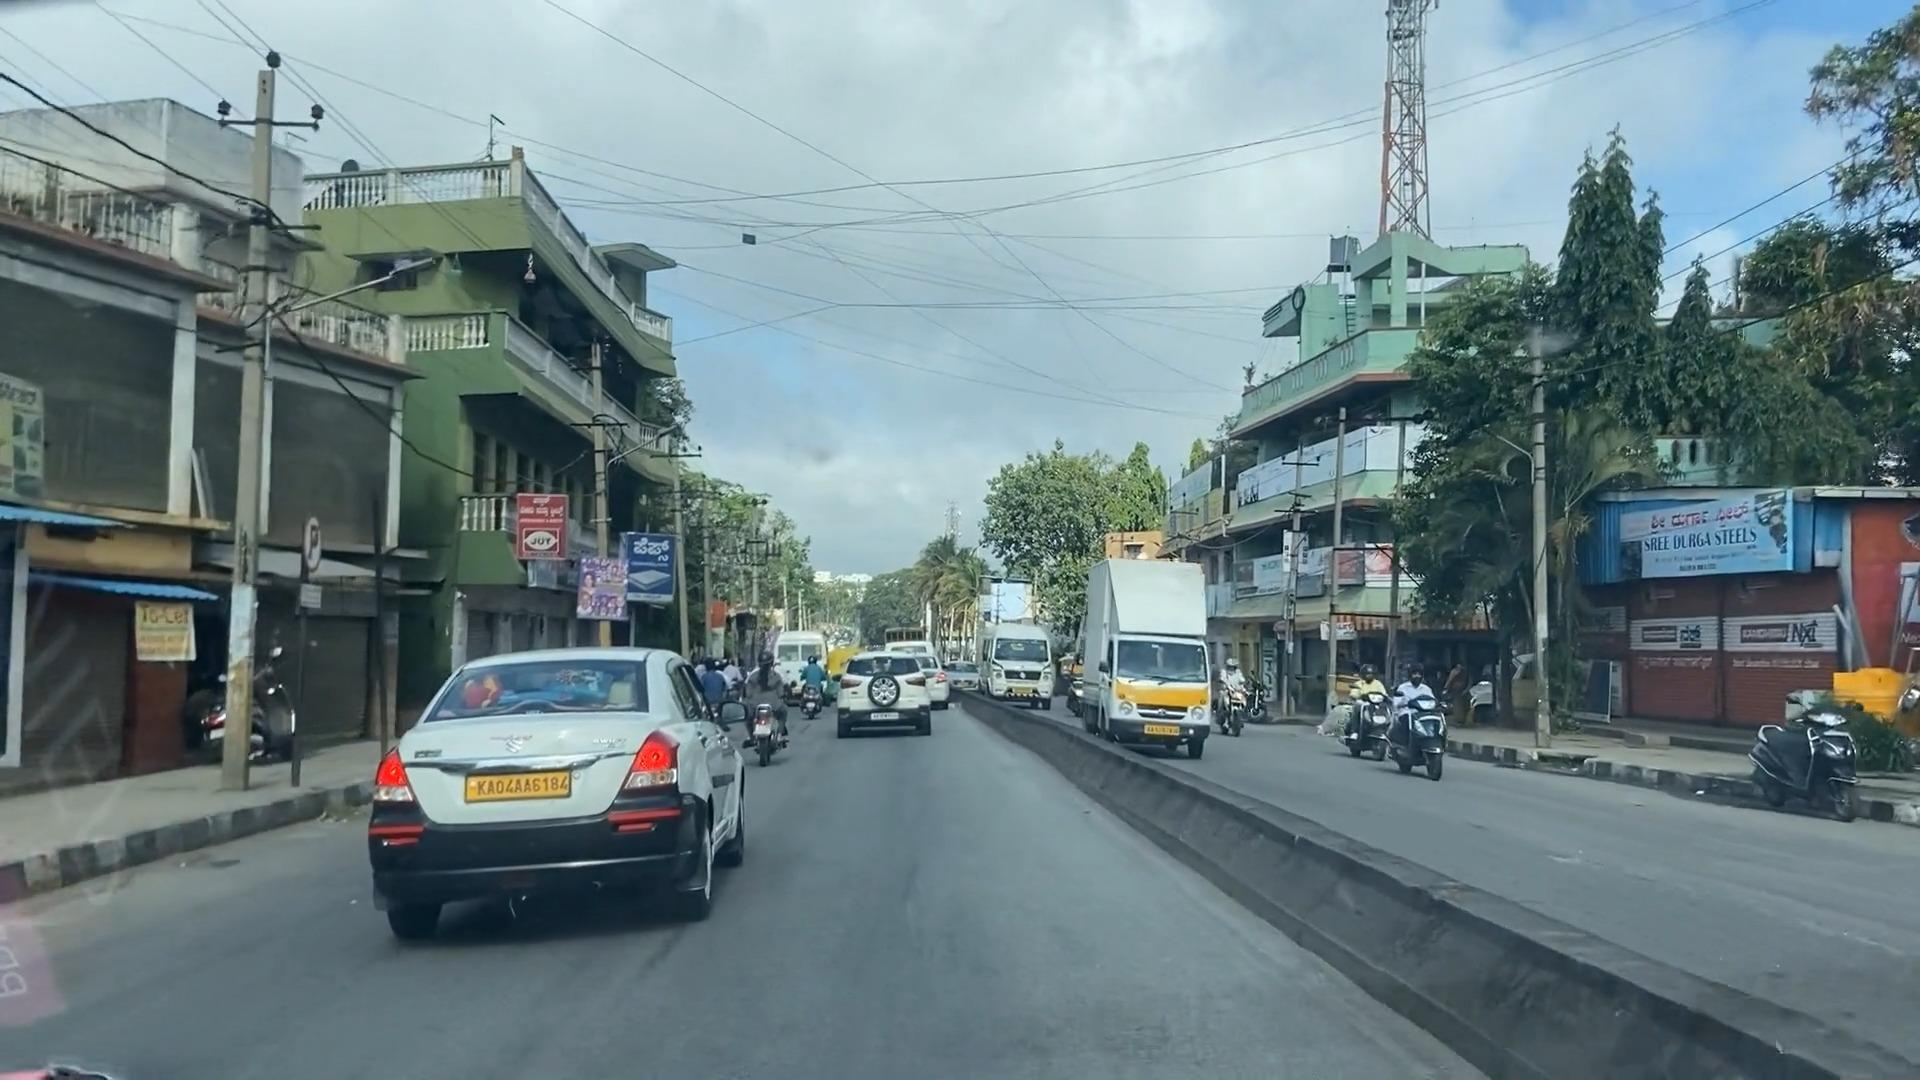LMV: (376, 657, 746, 931), (839, 649, 931, 748)
